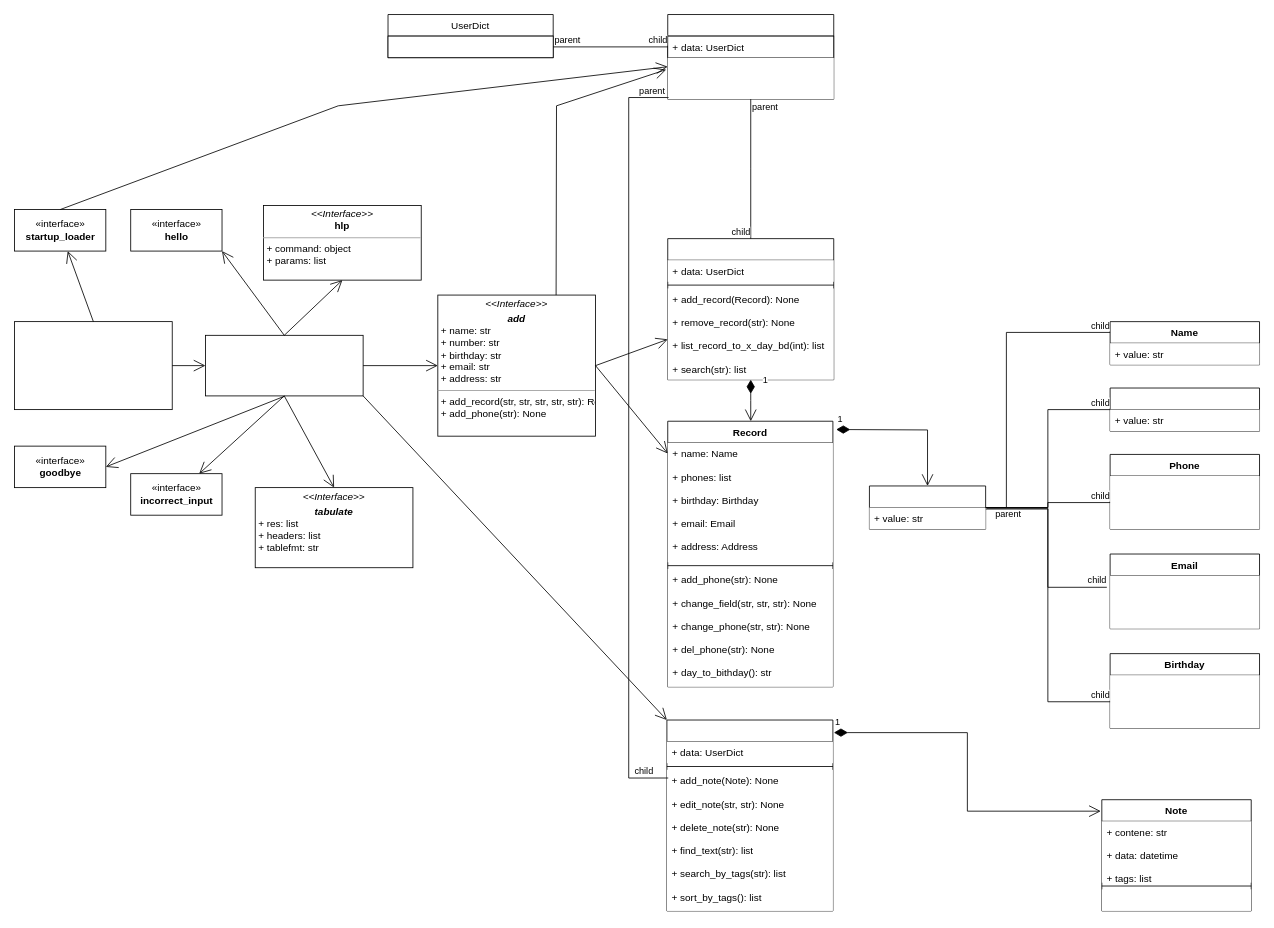
The diagram is 1274 pixels wide and 928 high, and some of its shapes have lost their labels. The shapes that lost their labels are listed below. From the top down, each one's box as (x1, y1, x2, y2) in pixels, then its label:
(387, 35, 553, 58): + data: type
(667, 14, 834, 99): MainBook
(667, 57, 833, 99): + saver(str): None + loader(str): None
(667, 238, 834, 380): AddressBook
(14, 321, 172, 410): <<Interface>> main + params: str + startup_loader(): None + parser(str): tuple
(205, 334, 363, 396): <<Interface>> parser + command: object + params: list
(1109, 387, 1260, 431): Address
(869, 485, 986, 529): Field
(1110, 476, 1259, 529): + value: str + check_phone(str): str
(1110, 575, 1259, 628): + value: str + check_email(str): str
(1110, 675, 1259, 728): + value: str + chaeck_date(str): datetime
(666, 719, 833, 911): NoteBook
(1101, 889, 1251, 911): + find_text(str): boolean
